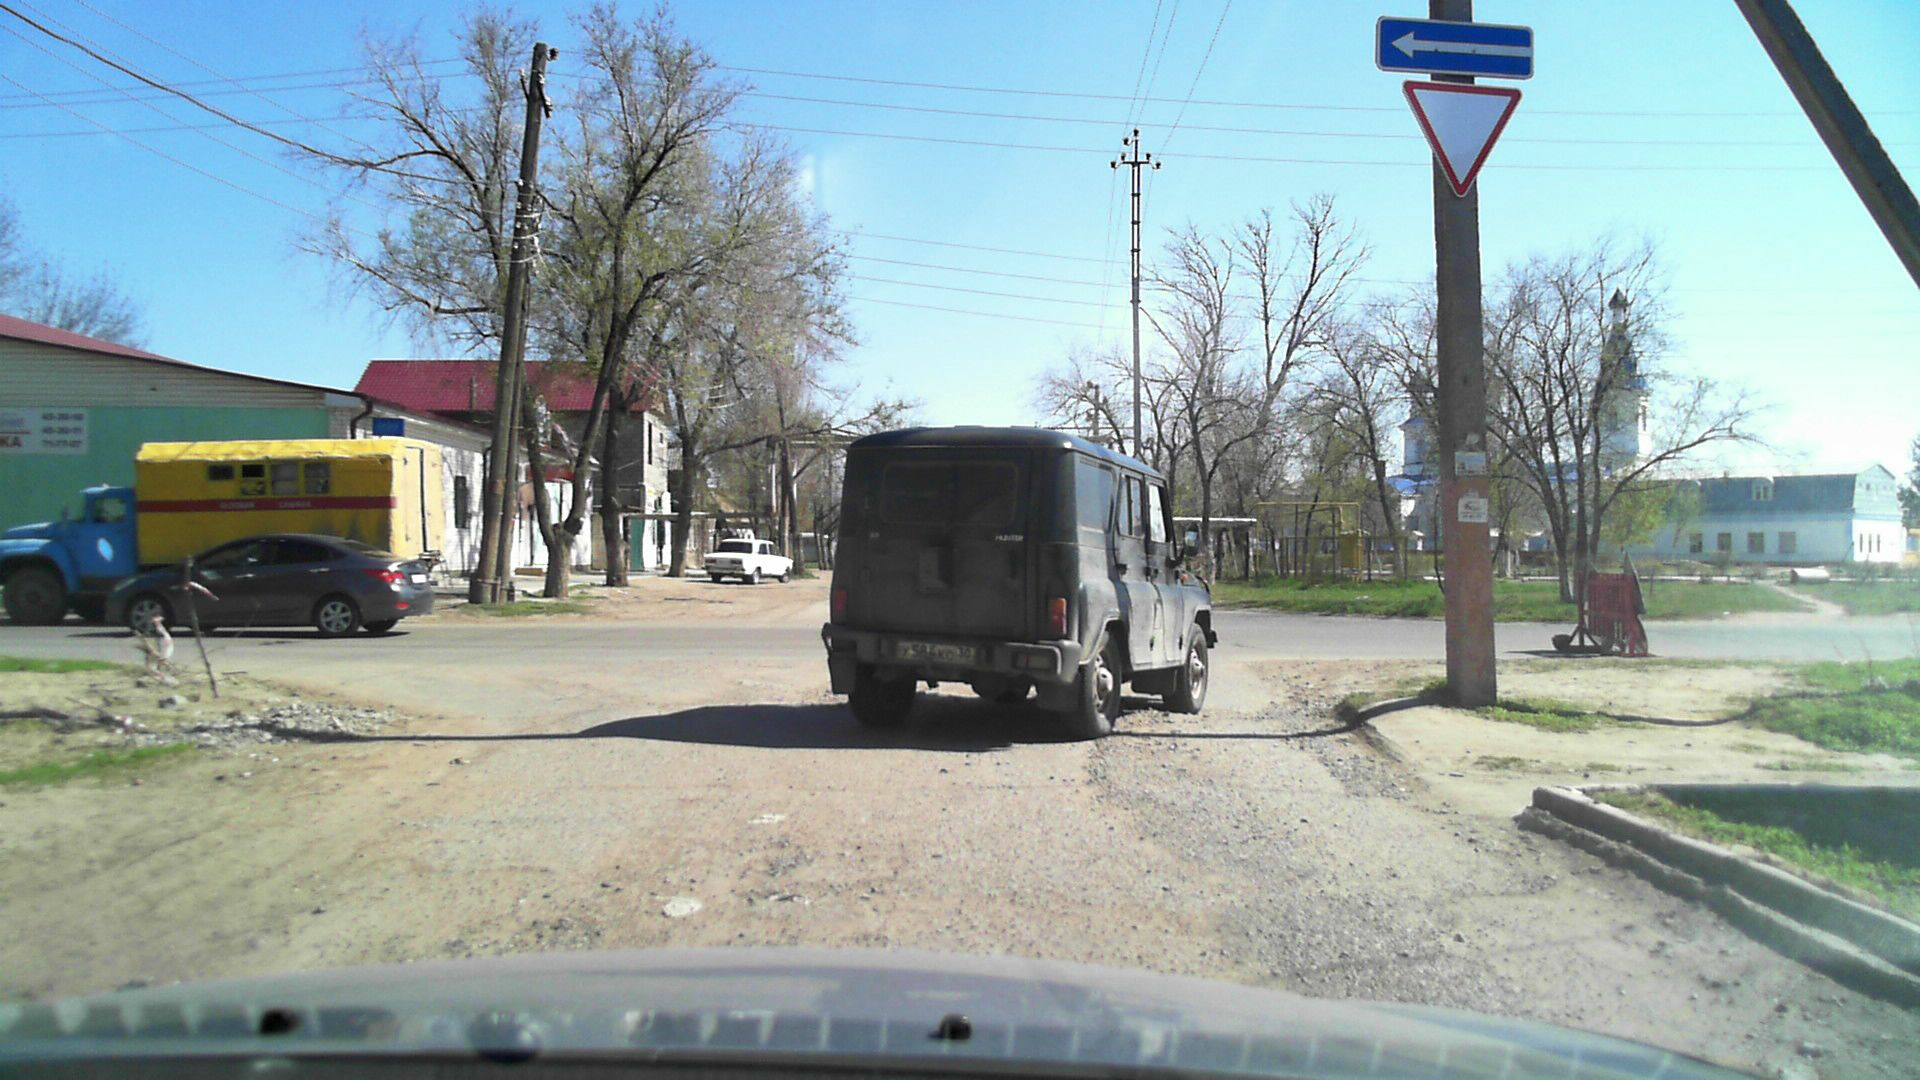One-Way Traffic: (1375, 16, 1534, 80)
